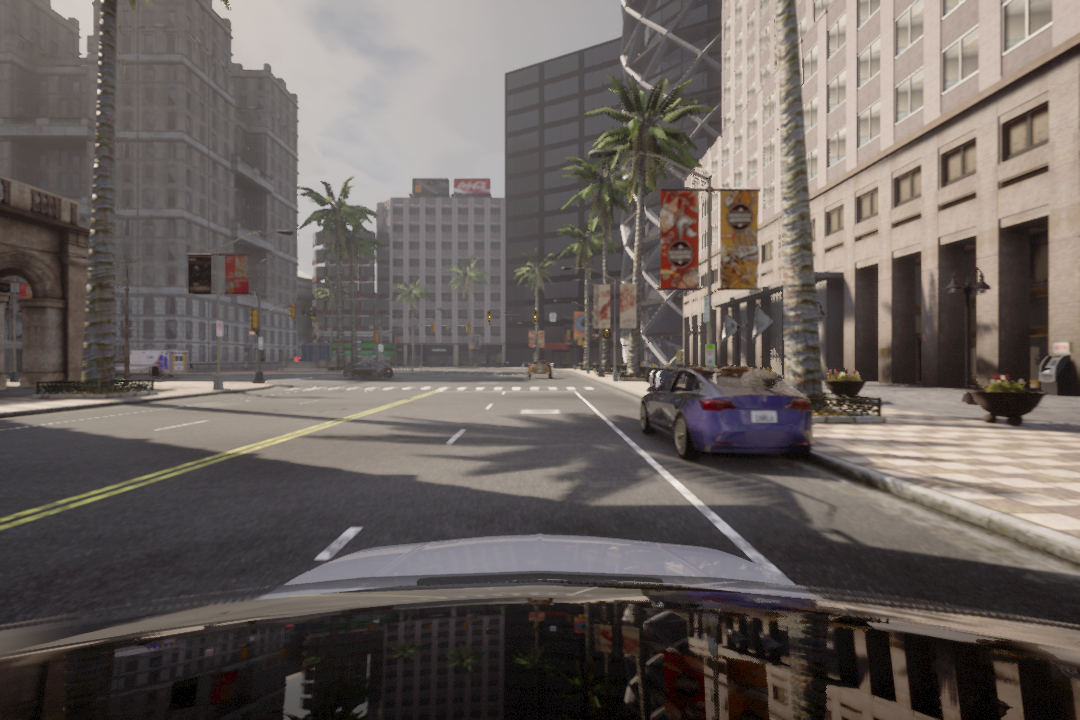walkside: (264, 384, 600, 393)
